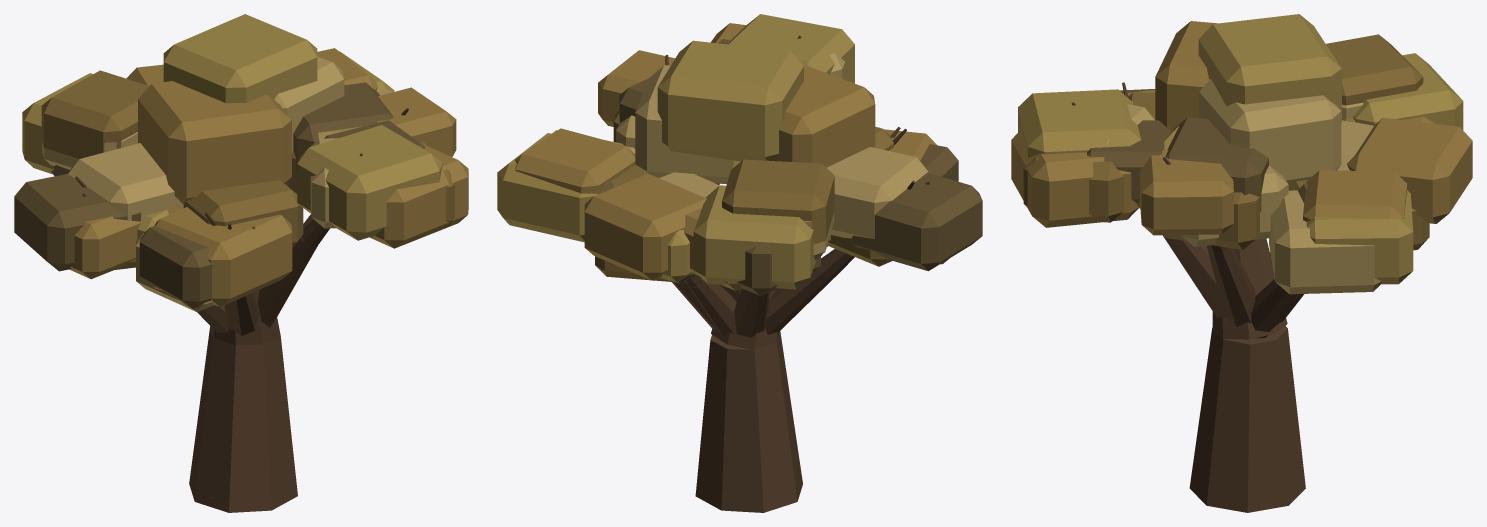
Rendered from apple_mature_autumn_3.glb.
The picture shows the model from 3 angles, left to right: view 1: azimuth 30°, elevation 25°; view 2: azimuth 150°, elevation 25°; view 3: azimuth 270°, elevation 25°; orthographic projection. The views are drawn at different scales.
Visible parts, largest first — view 1: apple_mature_autumn_3; view 2: apple_mature_autumn_3; view 3: apple_mature_autumn_3.
Boxes of the visible parts, x1,y1,x2,y2 form: apple_mature_autumn_3: [14, 14, 468, 512]; apple_mature_autumn_3: [497, 14, 982, 512]; apple_mature_autumn_3: [1011, 14, 1472, 512].
Size of the model in its own units: 11.57 by 12 by 11.1.
